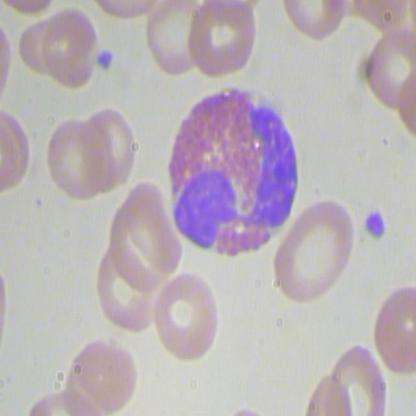Platelets: (357, 205, 390, 247), (92, 46, 115, 75)
RBC: (270, 190, 358, 311), (152, 266, 223, 367), (45, 109, 116, 210), (65, 327, 140, 415), (187, 1, 258, 84), (38, 7, 101, 94), (372, 286, 415, 377)
WBC: (163, 79, 306, 265)
